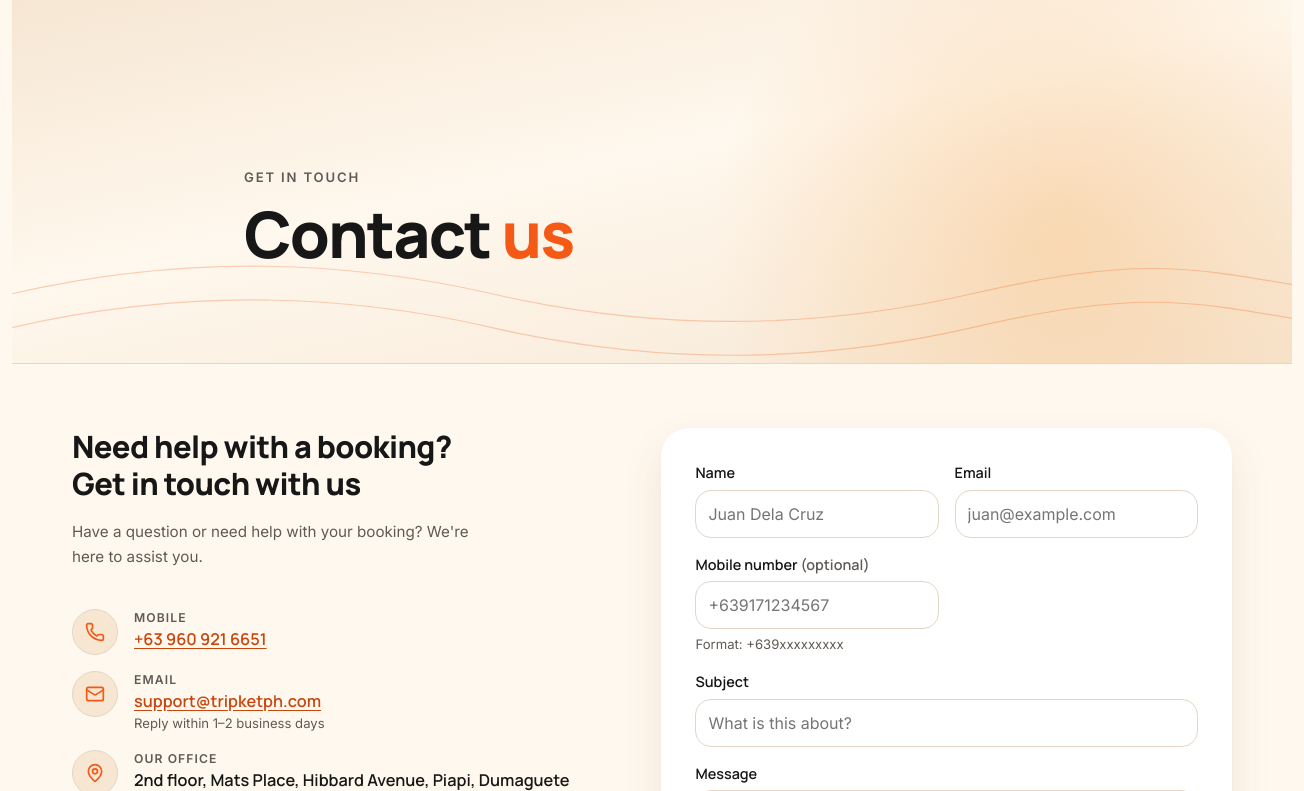
Test: when the send does not work › a captcha rejection asks for a retry instead of blaming the form
Type "Maria Santos" into the field labelled "Name". click: (817, 514)
box: top-left (695, 490), bottom-right (939, 538)
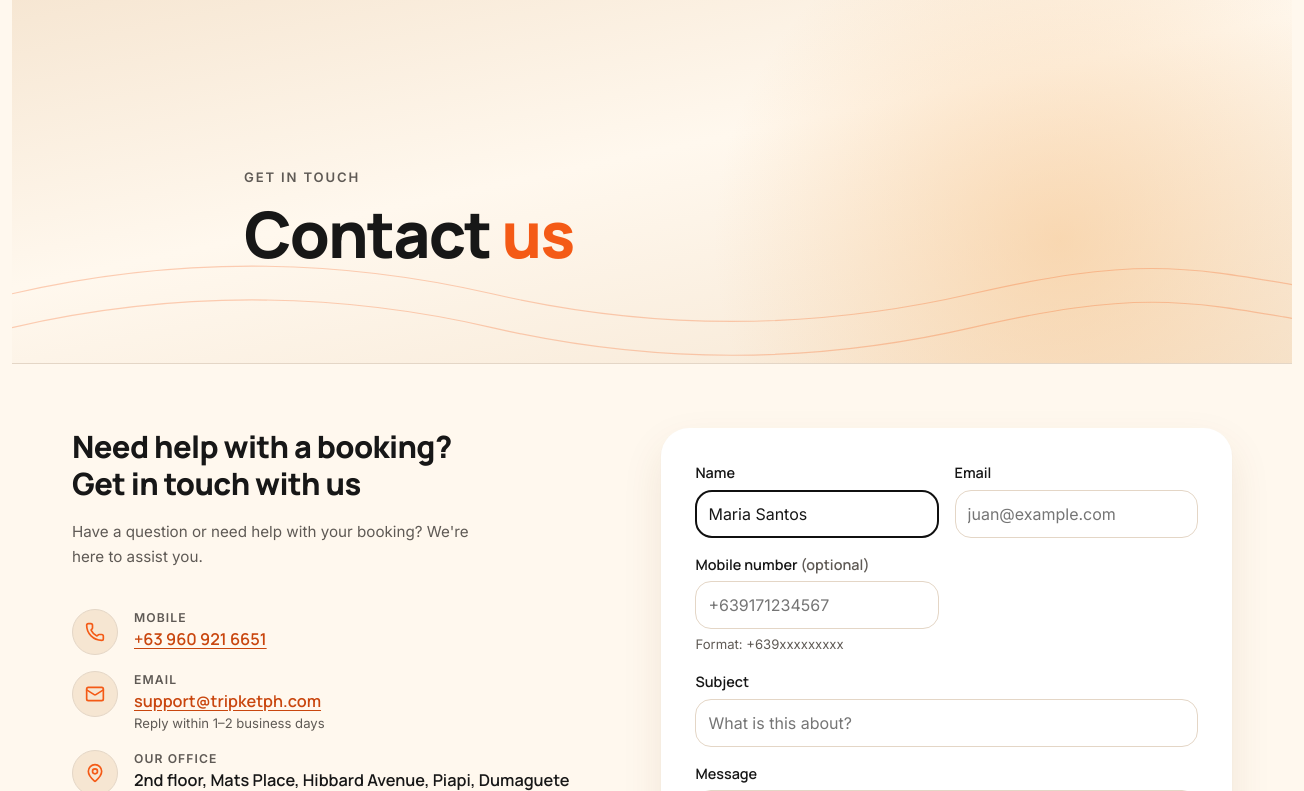
Type "maria@example.com" into the field labelled "Email". click: (1076, 514)
box: top-left (955, 490), bottom-right (1198, 538)
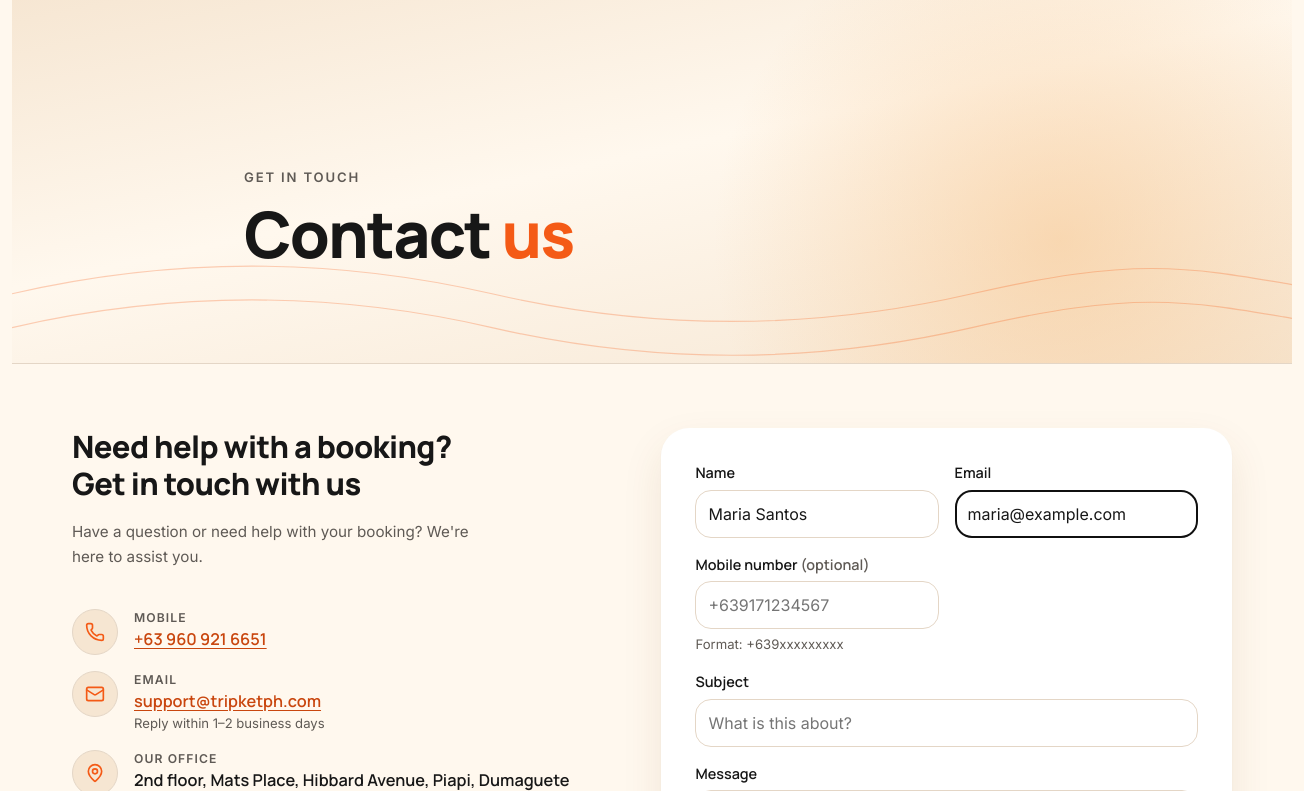
Type "Missing ticket" into the field labelled "Subject". click: (947, 723)
box: top-left (695, 699), bottom-right (1198, 747)
(page scrolled)
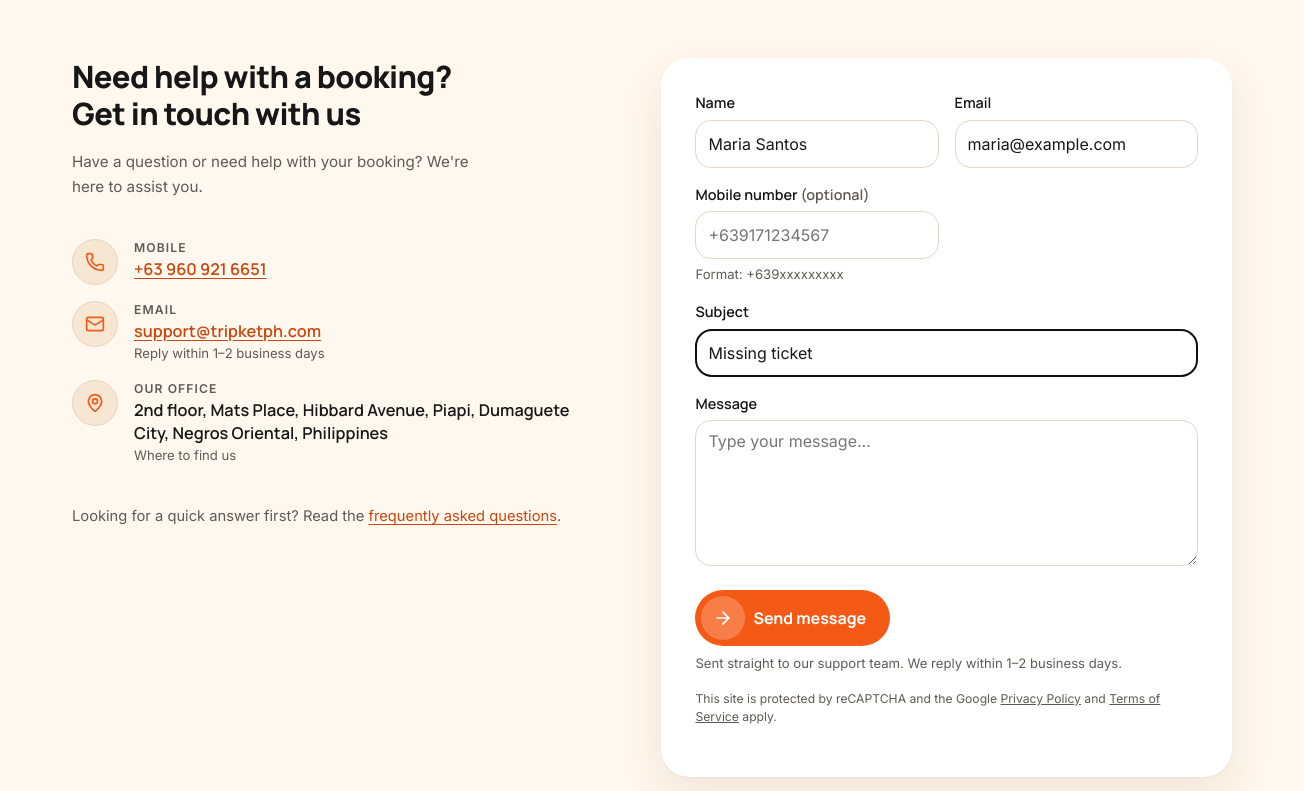
Type "Where is my ticket?" into the text box labelled "Message". click: (947, 493)
box: top-left (695, 420), bottom-right (1198, 566)
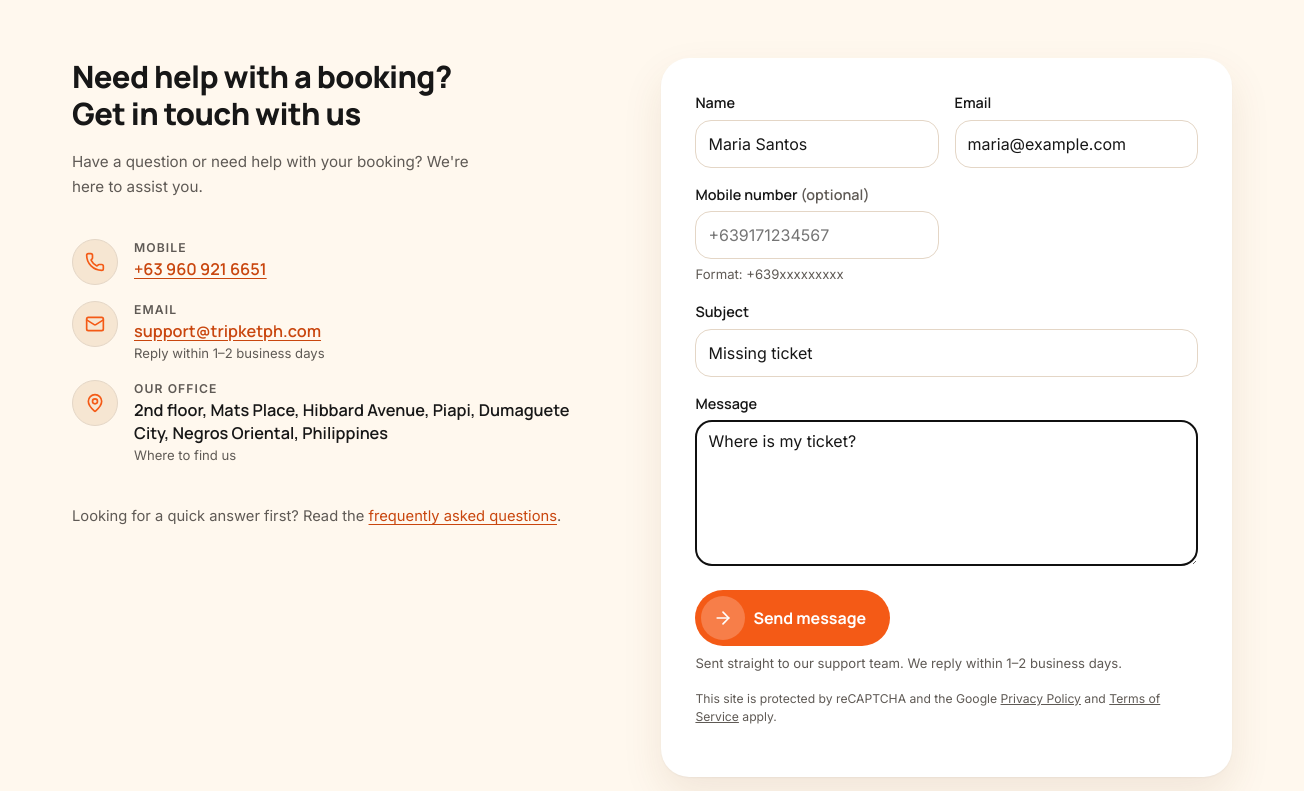
Click the button "Send message". click: (793, 618)
box: top-left (695, 590), bottom-right (890, 646)
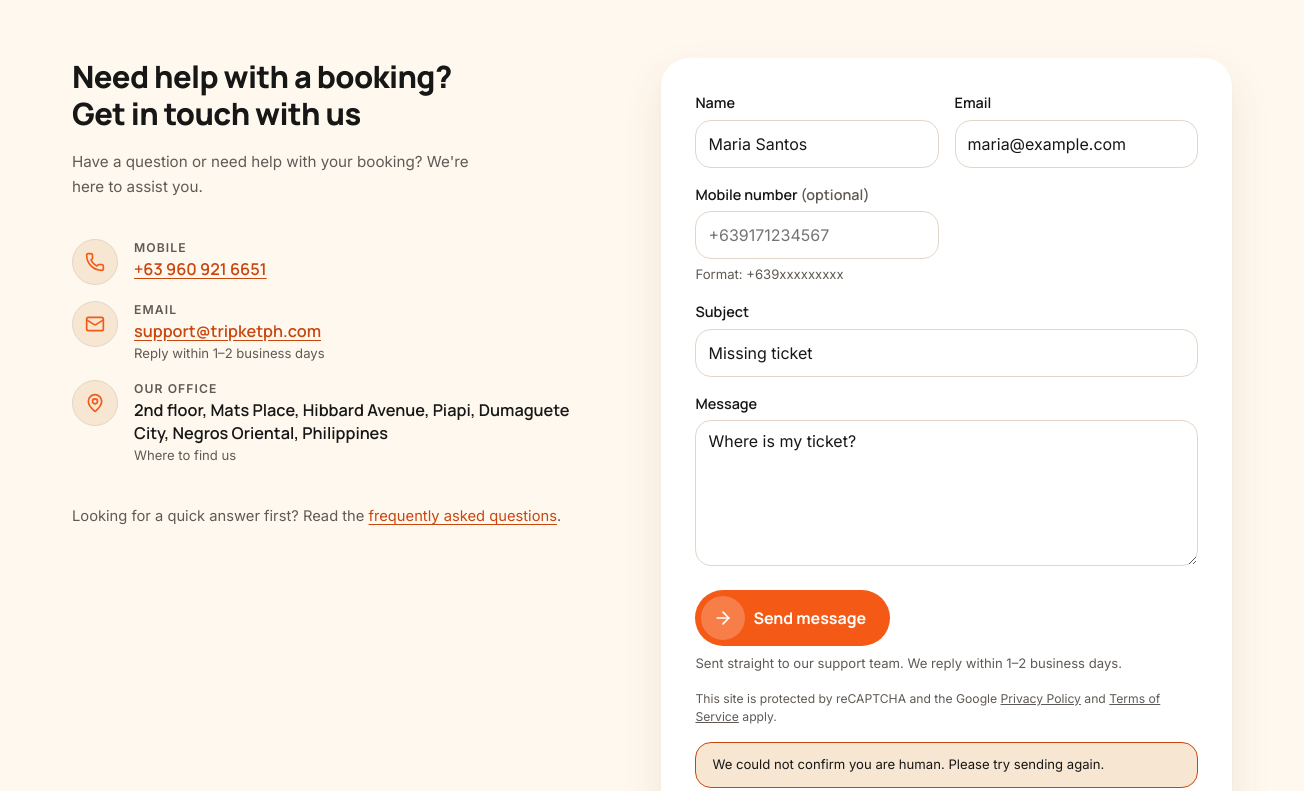
Expected: the message shows "try sending again", top-left (712, 756), bottom-right (1104, 772)
